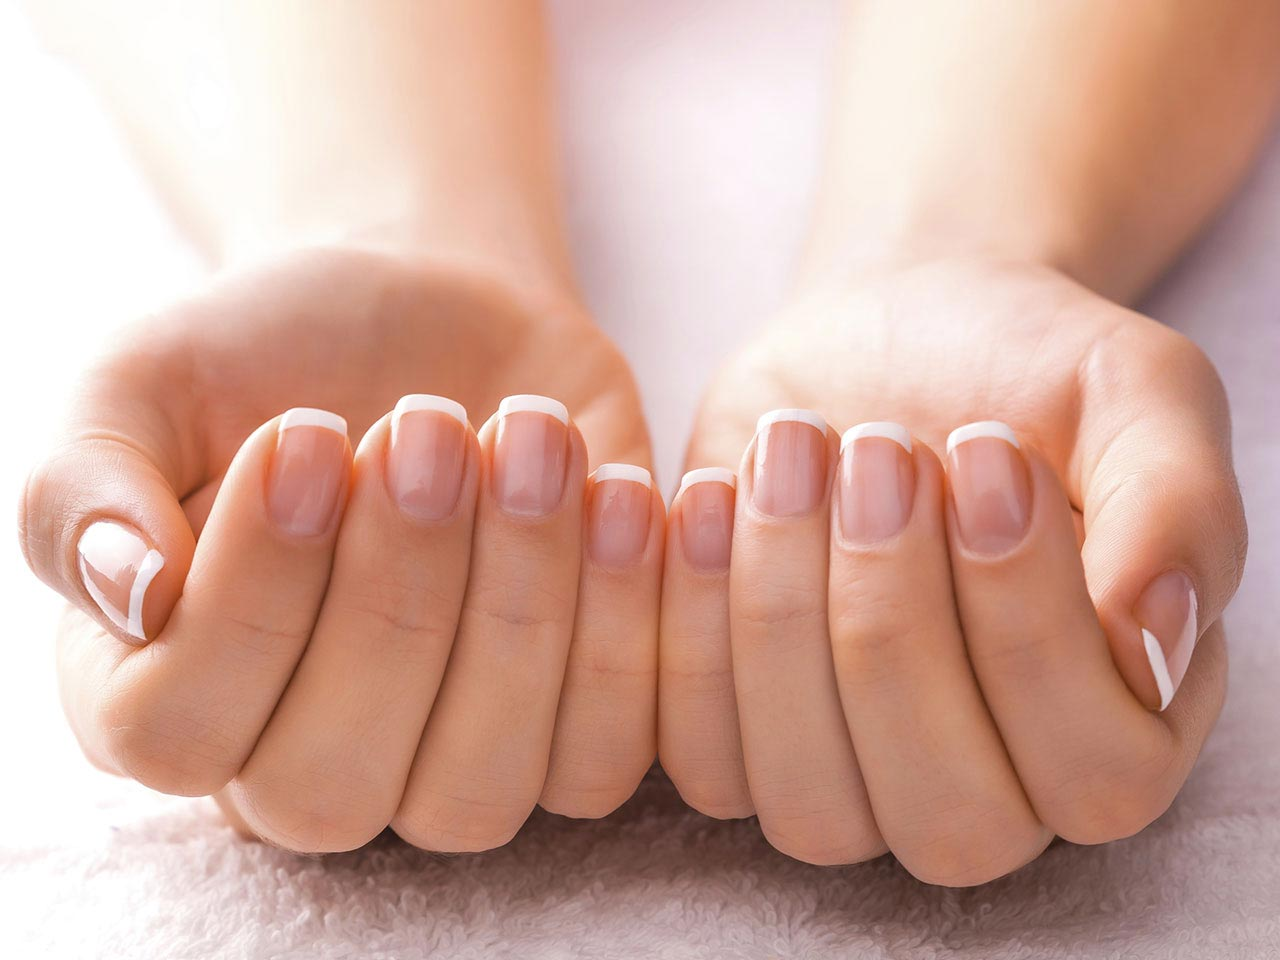nails: (65, 503, 178, 648), (939, 415, 1038, 565), (381, 384, 473, 526), (264, 403, 349, 550), (830, 417, 923, 547), (489, 390, 572, 527), (1128, 560, 1198, 721), (746, 400, 833, 527), (672, 460, 749, 583), (585, 453, 656, 578)
